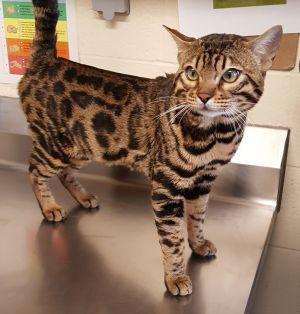bengal: (159, 18, 285, 125)
